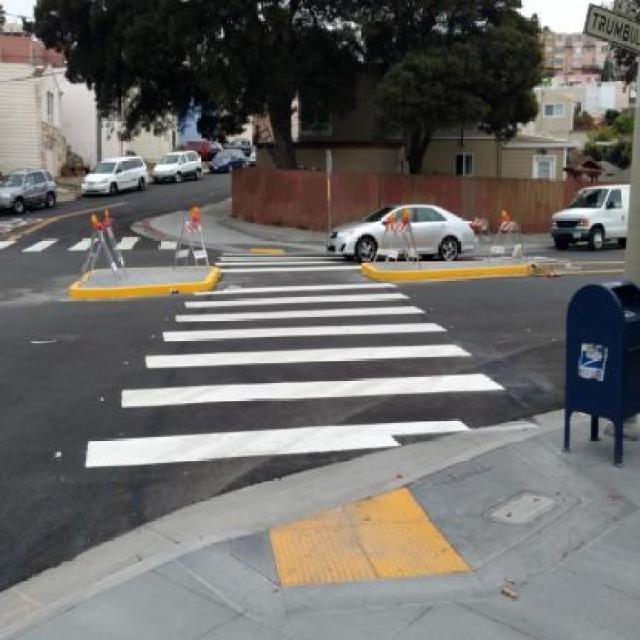crosswalk: (86, 280, 539, 469), (1, 232, 200, 255), (3, 232, 186, 254), (215, 248, 364, 272)
